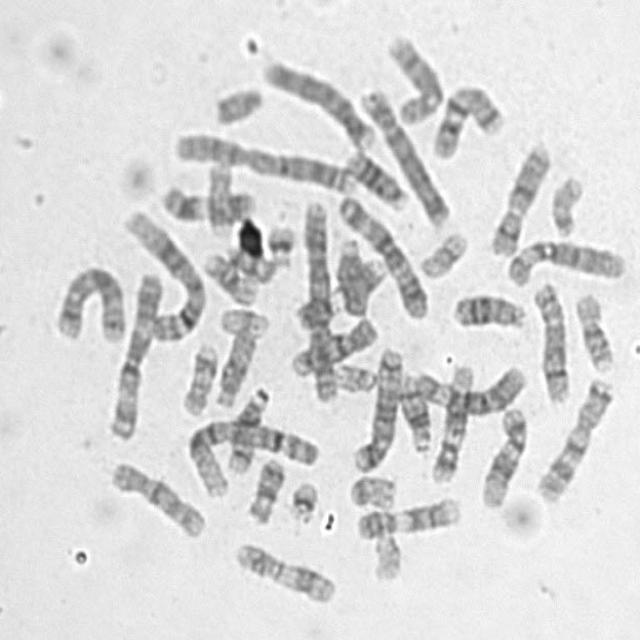A1: (116, 200, 209, 344), (182, 410, 322, 500)
A2: (165, 122, 360, 196), (296, 190, 340, 406)
A3: (330, 186, 432, 322), (102, 264, 166, 442)
B4: (353, 80, 452, 228), (256, 51, 382, 152)
B5: (347, 339, 406, 474), (47, 256, 128, 344)
C10: (104, 452, 208, 541), (285, 309, 380, 379)
C11: (228, 534, 338, 605), (155, 178, 257, 224)
C12: (425, 356, 477, 486), (474, 399, 530, 510)
C6: (402, 355, 530, 416), (499, 231, 628, 288)
C7: (530, 369, 618, 505), (426, 75, 508, 160)
C8: (379, 24, 447, 126), (525, 273, 574, 406)
C9: (291, 255, 392, 331), (348, 489, 464, 541)
D13: (339, 141, 412, 211), (445, 284, 529, 332)
D14: (221, 379, 272, 475), (393, 368, 435, 455)
D15: (329, 231, 385, 318), (208, 320, 260, 410)
E16: (568, 284, 618, 374), (195, 242, 261, 307)
E17: (174, 334, 220, 418), (201, 155, 236, 235)
E18: (240, 448, 286, 524), (221, 238, 286, 282)
F19: (412, 223, 471, 280), (212, 299, 272, 338)
F20: (544, 167, 586, 239), (341, 466, 398, 511)
G21: (281, 472, 321, 524), (262, 216, 298, 270)
G22: (366, 524, 404, 584), (328, 356, 379, 394)
X: (483, 134, 554, 258)
Y: (207, 76, 266, 127)
